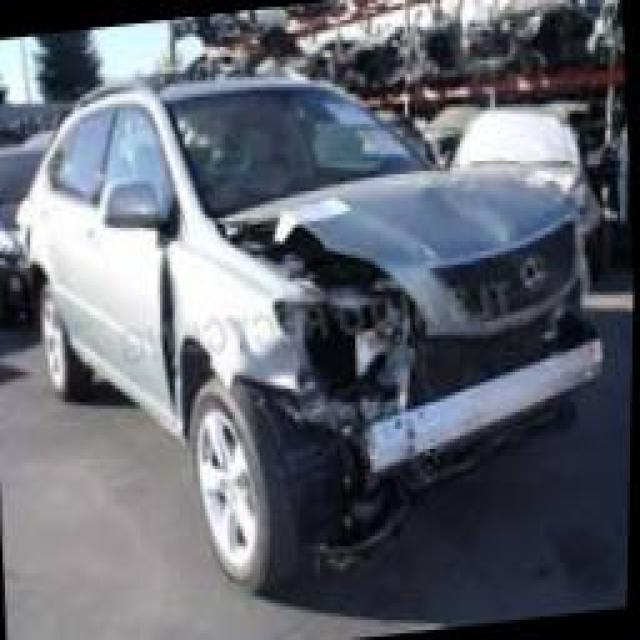Bonnet: (209, 161, 571, 324)
Bumper: (288, 258, 606, 575)
Fender: (172, 233, 310, 391)
